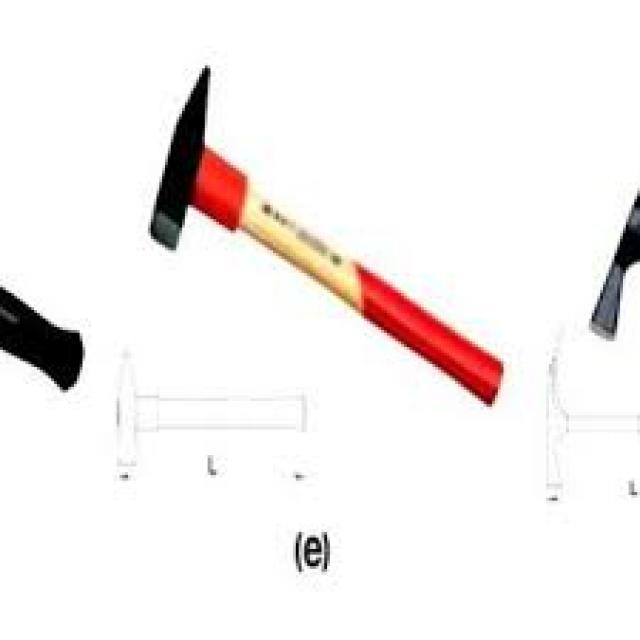hammer: (138, 57, 520, 421)
